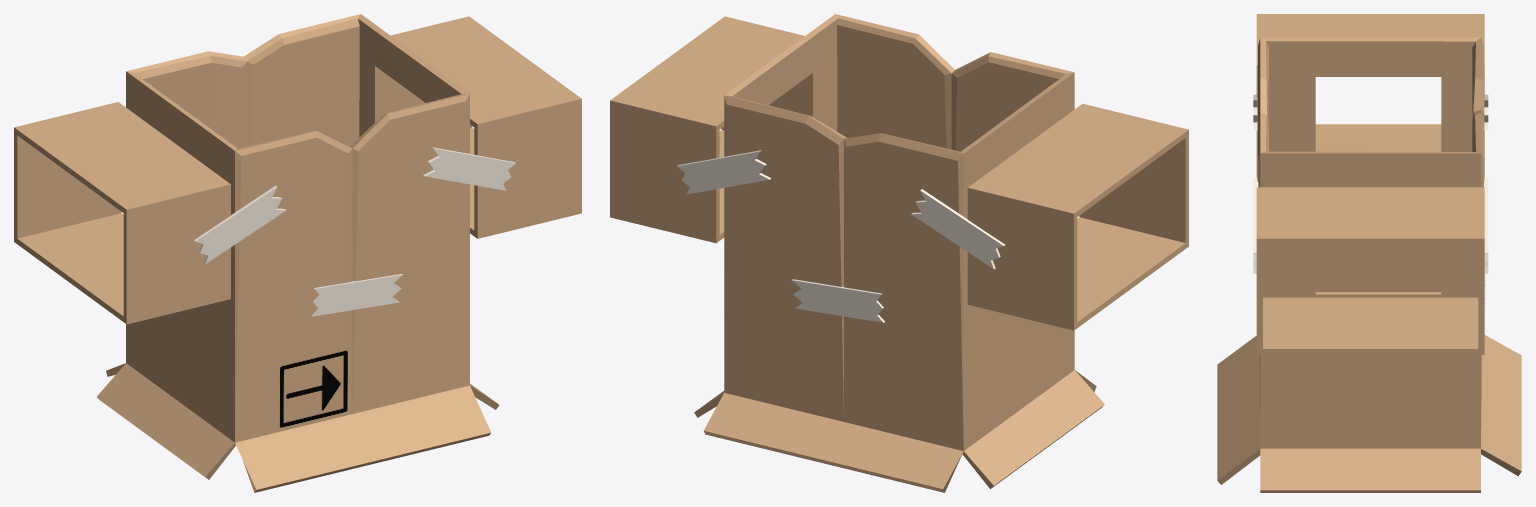
File: cardboard_armor_rig__dandys_world_unoffical.glb
3 views of the same model, side by side, from view 1: azimuth 30°, elevation 25°; view 2: azimuth 150°, elevation 25°; view 3: azimuth 270°, elevation 25° (orthographic).
Parts seen in each view (by area): view 1: Object_10, Object_12, Object_14, Object_16; view 2: Object_10, Object_12, Object_14, Object_16; view 3: Object_10, Object_12, Object_14.
Boxes of the visible parts, left/top/right/bottom form: Object_10: left=97, top=14, right=498, bottom=492; Object_12: left=14, top=16, right=581, bottom=324; Object_14: left=194, top=147, right=515, bottom=264; Object_16: left=312, top=274, right=402, bottom=316; Object_10: left=694, top=14, right=1104, bottom=492; Object_12: left=610, top=16, right=1188, bottom=330; Object_14: left=677, top=150, right=1005, bottom=269; Object_16: left=792, top=279, right=884, bottom=322; Object_10: left=1217, top=37, right=1521, bottom=492; Object_12: left=1256, top=14, right=1484, bottom=354; Object_14: left=1253, top=94, right=1488, bottom=273.
Bounding box in the file's own units: 0.8278 × 0.5698 × 0.4741.
1 material, 1 textured.
